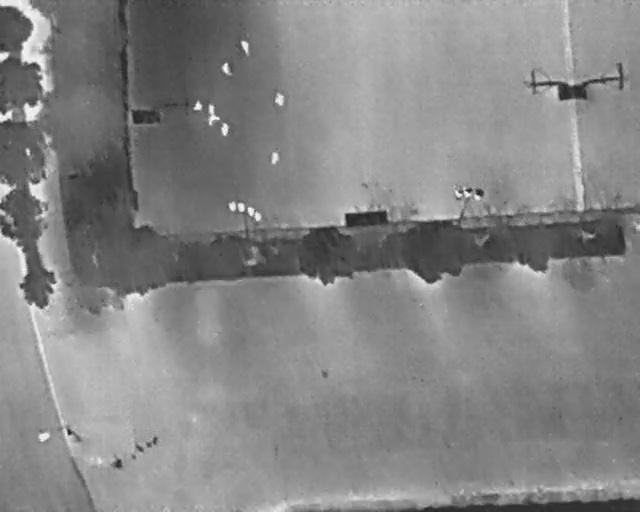Person: (221, 61, 232, 76), (240, 40, 250, 56), (274, 92, 285, 106), (220, 123, 229, 137), (193, 100, 204, 111), (208, 116, 220, 126), (271, 151, 279, 164), (208, 104, 215, 116)
